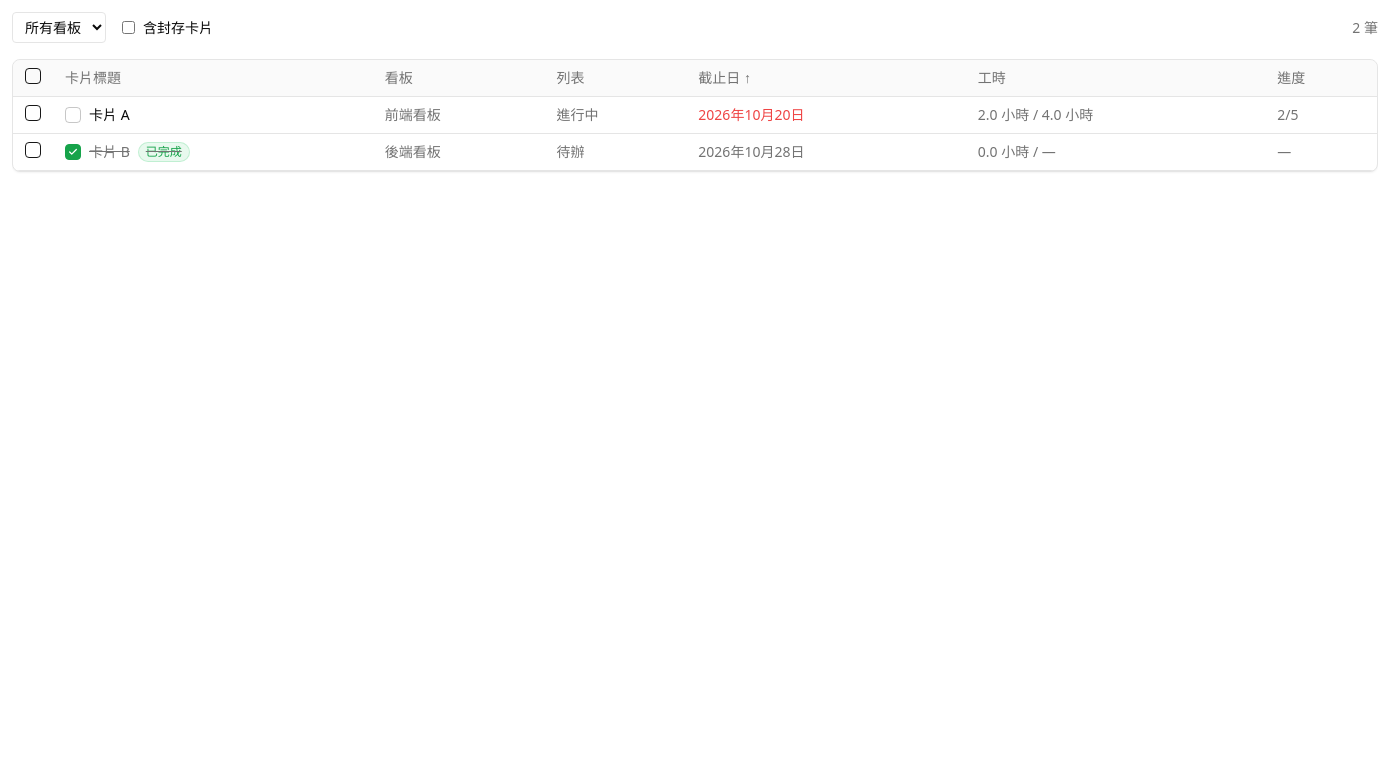
Test: TableTab › separates_row_selection_from_completion
The width and height of the screenshot is (1390, 780).
Expected: the text "卡片 A" is shown, x1=89 y1=105 x2=130 y2=125
Note: Clicking row checkbox selects the row and does not mutate completion
Click the checkbox next to "卡片 A" at (33, 113), box x1=25 y1=105 x2=41 y2=121
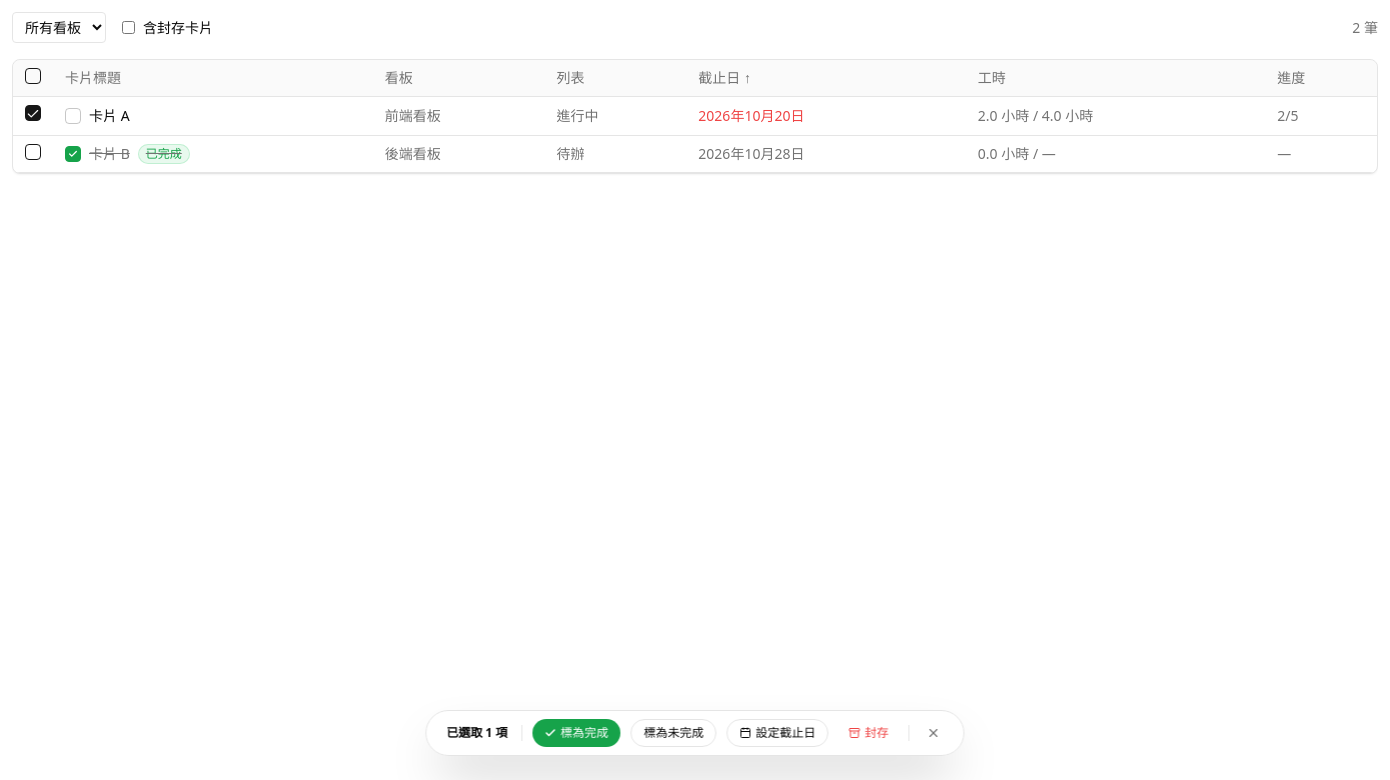
Now the text "已選取 1 項" is shown, box x1=442 y1=725 x2=512 y2=741
